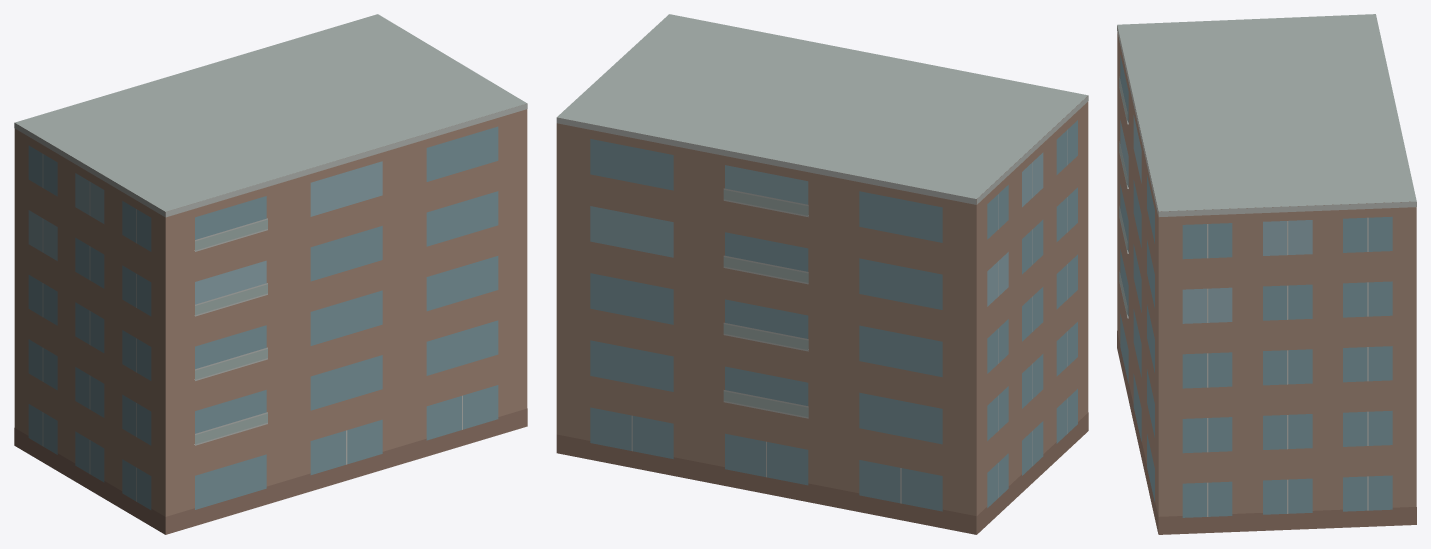
File: survey-upis-32637018.glb
3 views of the same model, side by side, from view 1: azimuth 30°, elevation 25°; view 2: azimuth 150°, elevation 25°; view 3: azimuth 270°, elevation 25° (orthographic). The views are drawn at different scales.
Visible parts, largest first — view 1: survey-upis-32637018.tmp; view 2: survey-upis-32637018.tmp; view 3: survey-upis-32637018.tmp.
Part boxes in pixels (x1,y1,x2,y2): survey-upis-32637018.tmp: (14, 14, 527, 534); survey-upis-32637018.tmp: (556, 14, 1088, 534); survey-upis-32637018.tmp: (1117, 14, 1416, 534).
Bounding box in the file's own units: 18.32 × 13.98 × 11.75.
